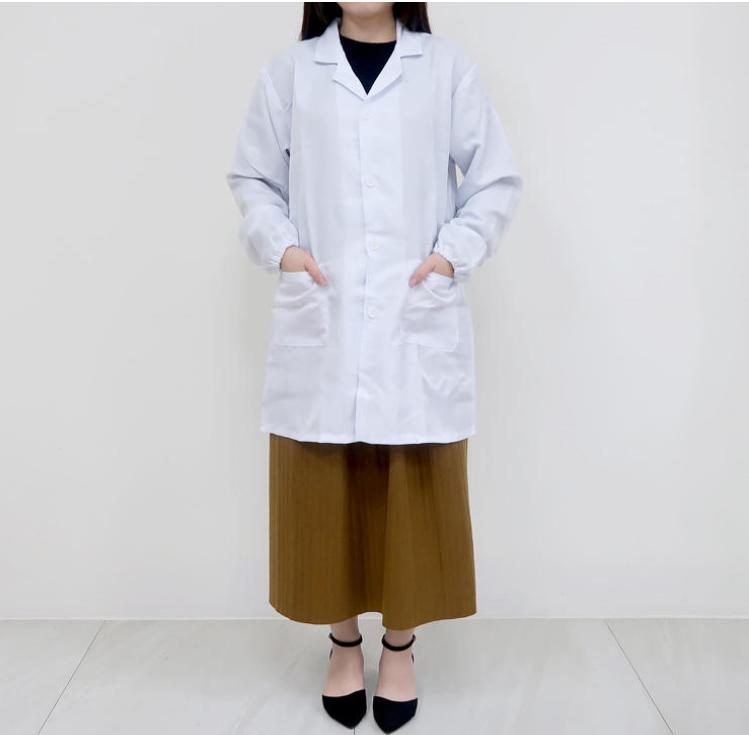lab_coat: (229, 36, 523, 446)
